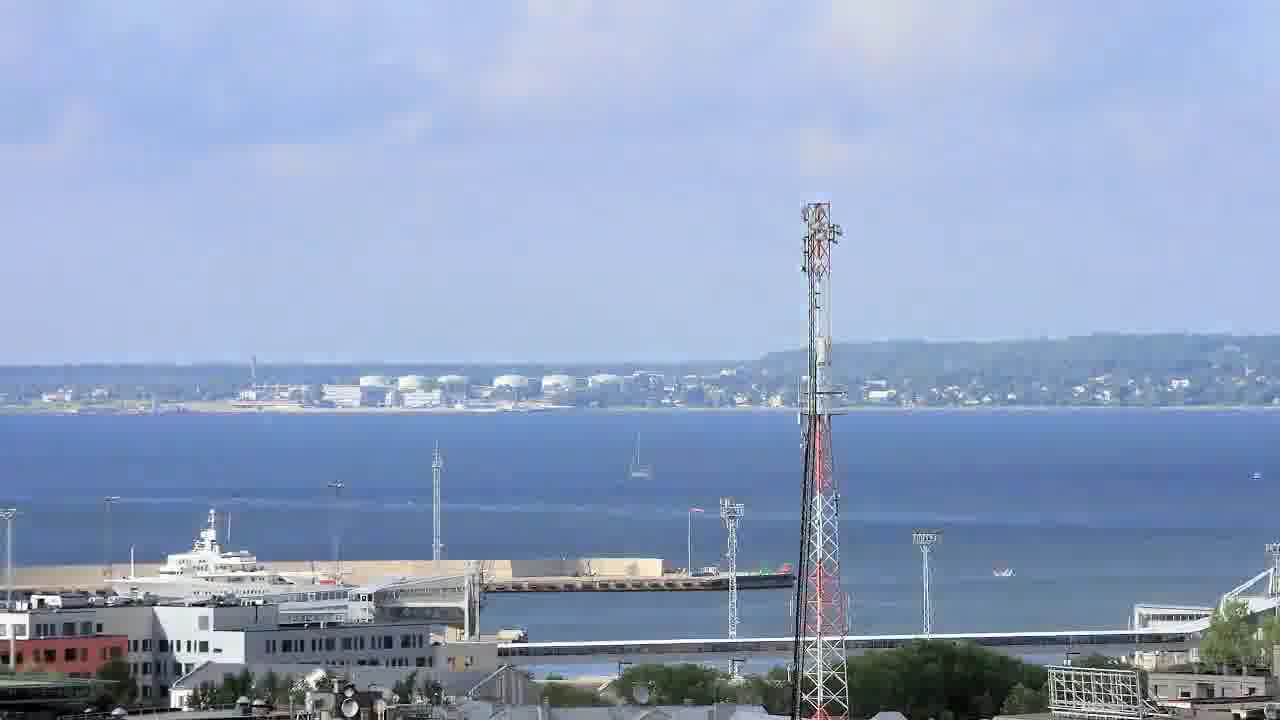type-2: (611, 423, 671, 489)
type-3: (96, 508, 381, 605)
type-4: (975, 548, 1053, 598), (1229, 447, 1275, 498)
